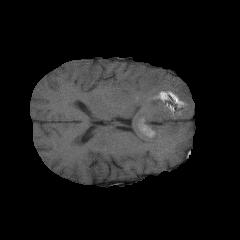glioma: (111, 66, 191, 144)
